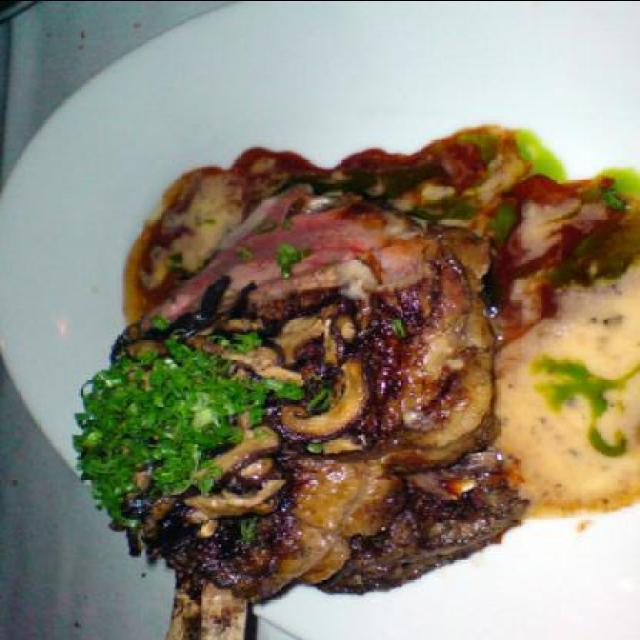Steak: (68, 151, 510, 615)
